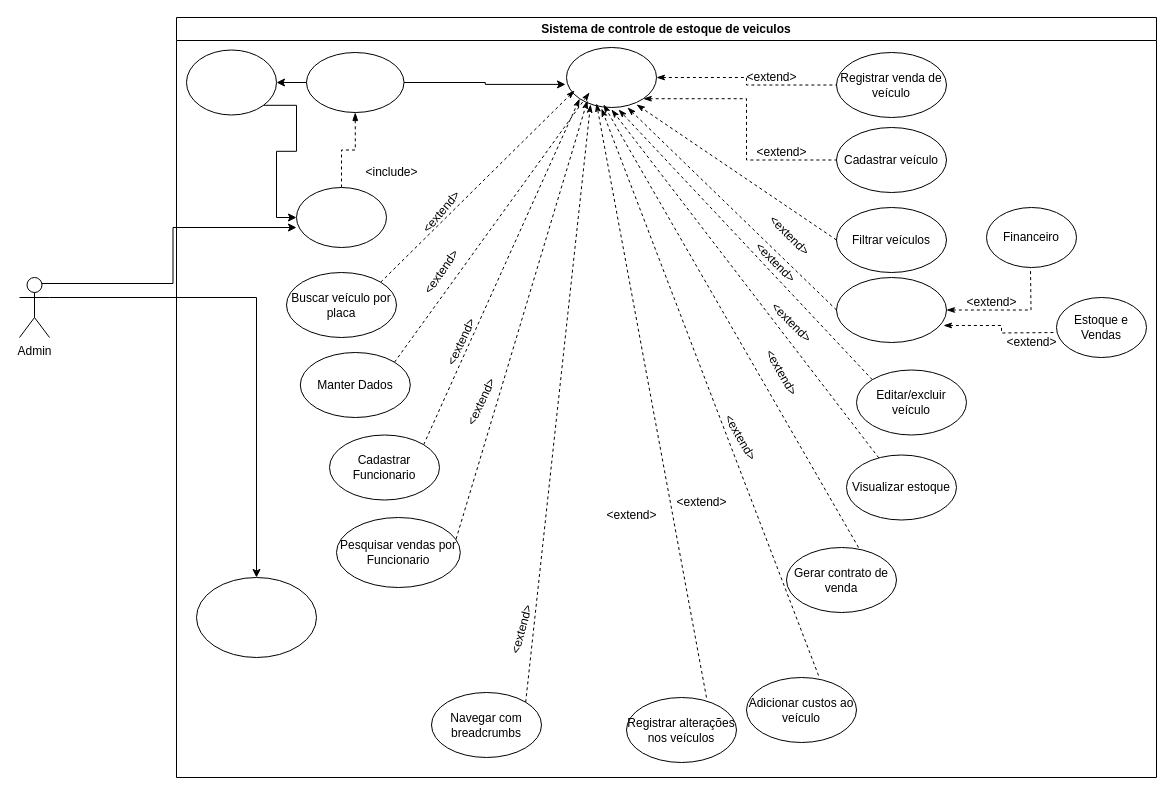
The diagram is 1174 pixels wide and 795 high, and some of its shapes have lost their labels. Each missing label, with the box of its shape:
Autenticação do Usuario: (306, 52, 404, 112)
Cadastrar-se: (196, 576, 316, 658)
Fazer Login: (296, 186, 386, 248)
Gerer Relatorios: (836, 276, 946, 342)
Usuário Não encontrado: (186, 49, 276, 115)
Usuário Ok: (566, 46, 656, 108)
